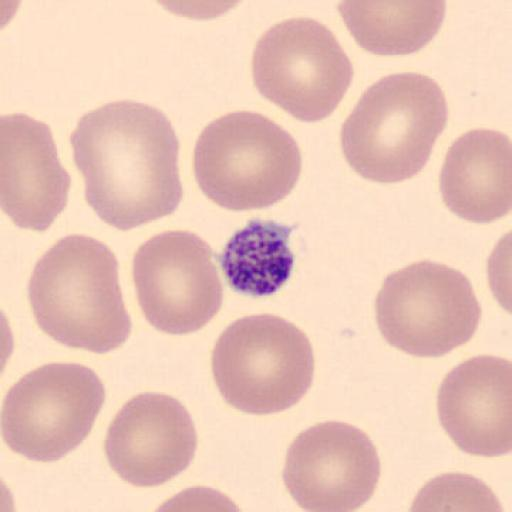Platelet: (215, 215, 298, 300)
RBC: (70, 97, 183, 232), (24, 232, 131, 356), (338, 70, 451, 185), (191, 106, 304, 214), (209, 311, 317, 418), (372, 256, 483, 360), (250, 15, 354, 125), (3, 360, 107, 464), (130, 227, 226, 337), (280, 417, 383, 512), (103, 389, 199, 490), (2, 110, 72, 233), (435, 352, 512, 460), (438, 126, 512, 226), (336, 0, 449, 58), (406, 469, 506, 512), (147, 484, 251, 512), (485, 226, 512, 322), (146, 0, 256, 21), (0, 304, 17, 380), (0, 0, 26, 37), (1, 472, 19, 511)
